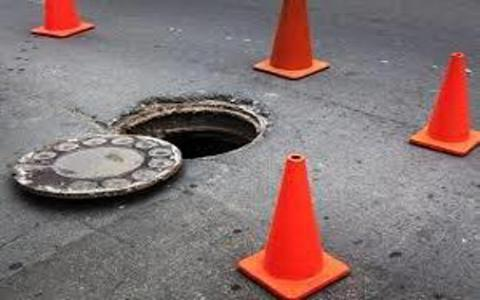open manhole: (91, 80, 276, 172)
